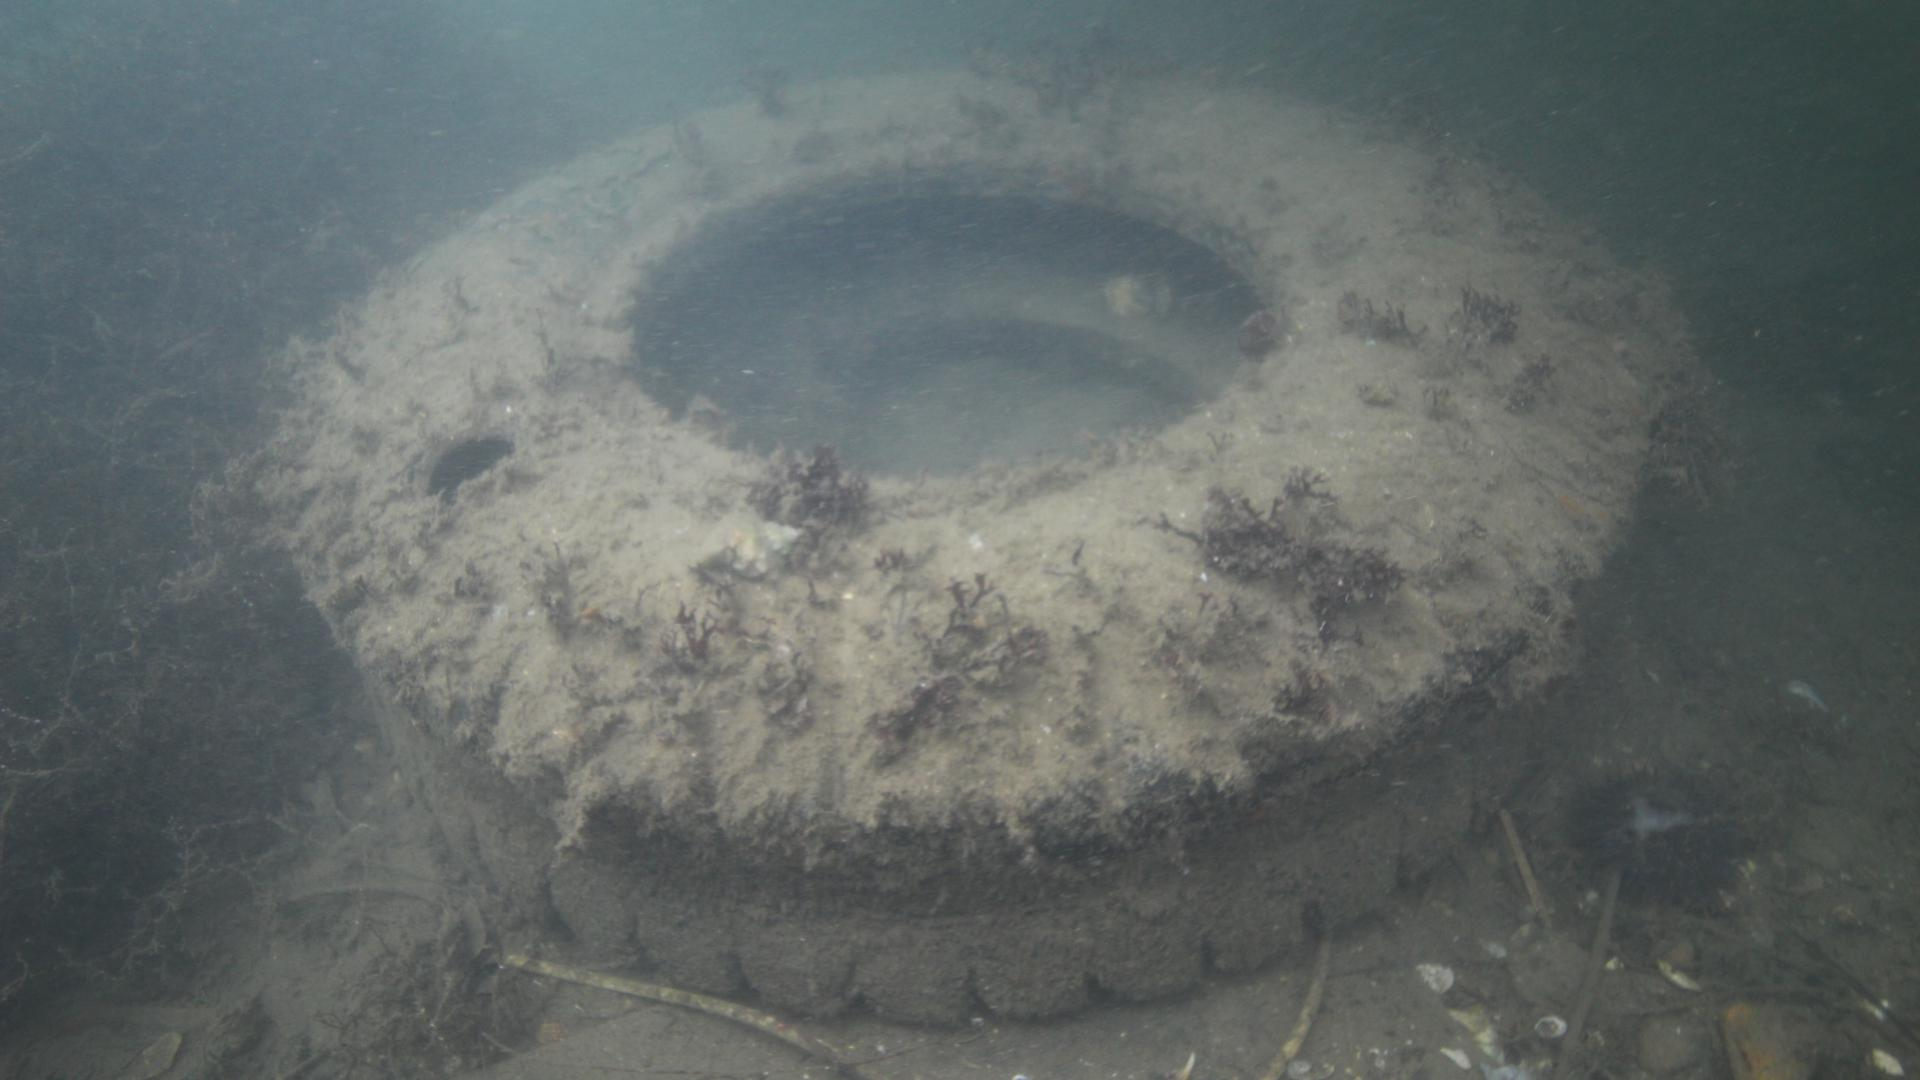tire: (255, 69, 1651, 1030)
